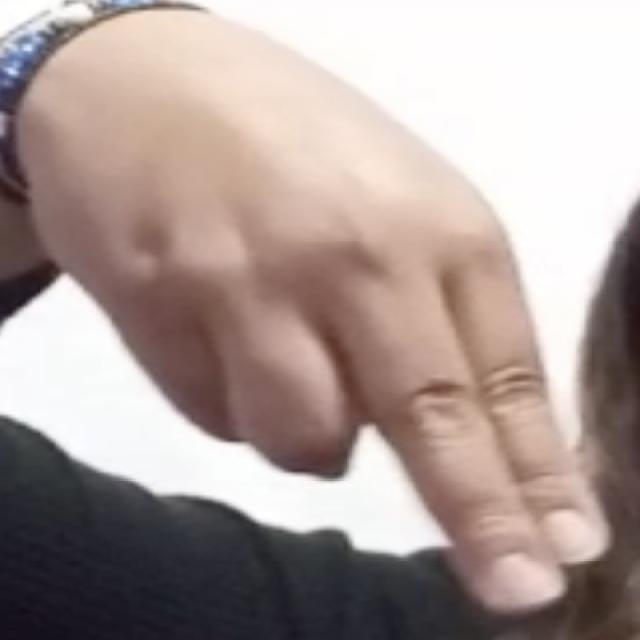N: (18, 5, 629, 608)
